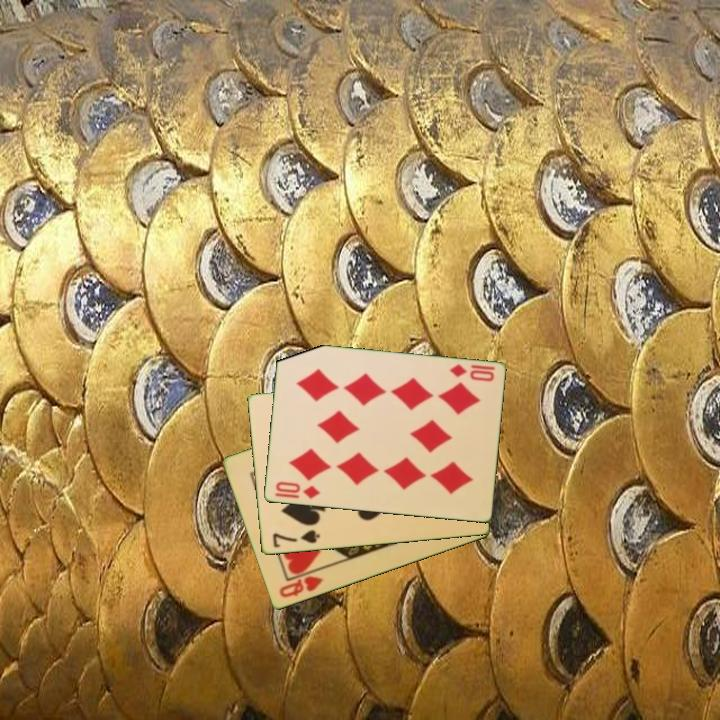10d: (446, 361, 498, 385), (272, 478, 322, 502)
7s: (269, 527, 322, 551)
Qh: (275, 573, 326, 601)
